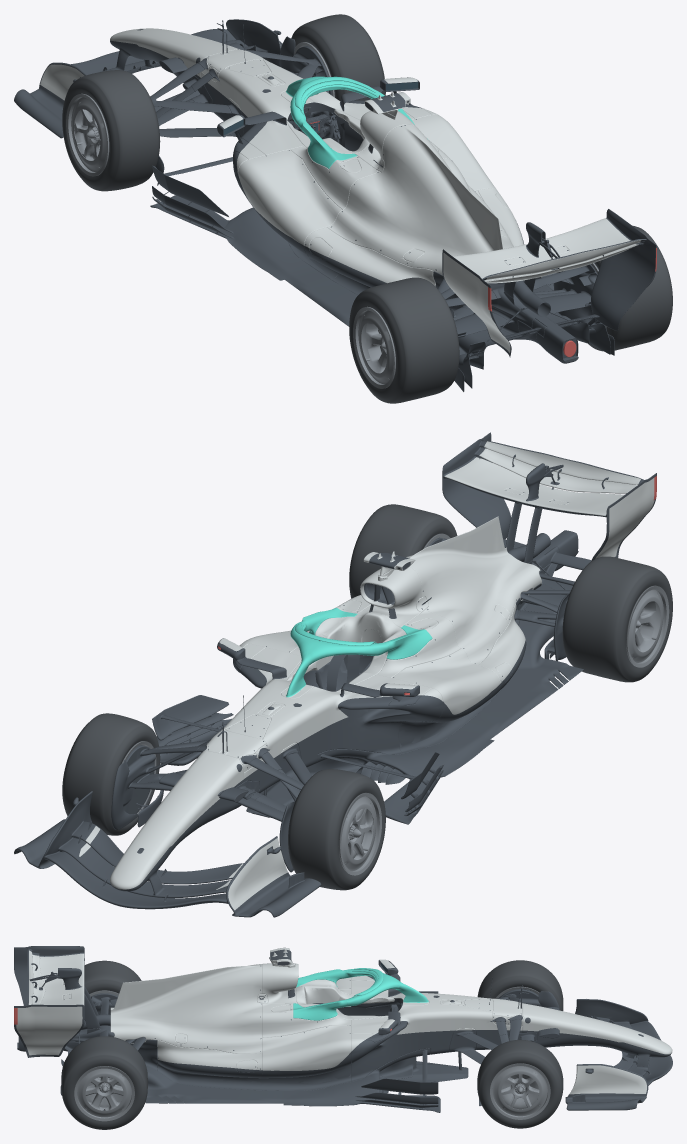
File: mercedes-high.glb
3 renders of one model, top to bottom at view 1: azimuth 30°, elevation 25°; view 2: azimuth 150°, elevation 25°; view 3: azimuth 270°, elevation 25°, orthographic. The views are drawn at different scales.
Visible parts, largest first — view 1: body, wheel2, wheel0, rearFlaps, frontFlaps, wheel1, wheel3, frontWing, rearWing; view 2: body, frontFlaps, wheel2, rearFlaps, wheel0, wheel1, frontWing, wheel3, rearWing; view 3: body, frontFlaps, wheel3, wheel1, rearFlaps, wheel0, frontWing, wheel2, rearWing.
Part boxes in pixels (x1,y1,x2,y2): body: (150,20,649,391); wheel2: (349,277,459,403); wheel0: (62,70,160,191); rearFlaps: (442,209,656,311); frontFlaps: (29,19,281,100); wheel1: (291,14,385,101); wheel3: (588,225,672,351); frontWing: (14,41,282,138); rearWing: (444,251,655,321); body: (111,490,649,872); frontFlaps: (24,781,304,911); wheel2: (562,556,672,682); rearFlaps: (442,432,656,535); wheel0: (288,769,385,890); wheel1: (62,713,160,835); frontWing: (14,819,321,917); wheel3: (349,504,457,598); rearWing: (444,461,655,542); body: (16,947,569,1112); frontFlaps: (562,999,672,1101); wheel3: (61,1036,147,1129); wheel1: (477,1039,563,1128); rearFlaps: (14,946,88,1025); wheel0: (477,960,563,1010); frontWing: (565,1055,672,1110); wheel2: (84,960,141,996); rearWing: (14,966,89,1032).
Bounding box in the file's own units: 1.9 × 1.2 × 5.39.
